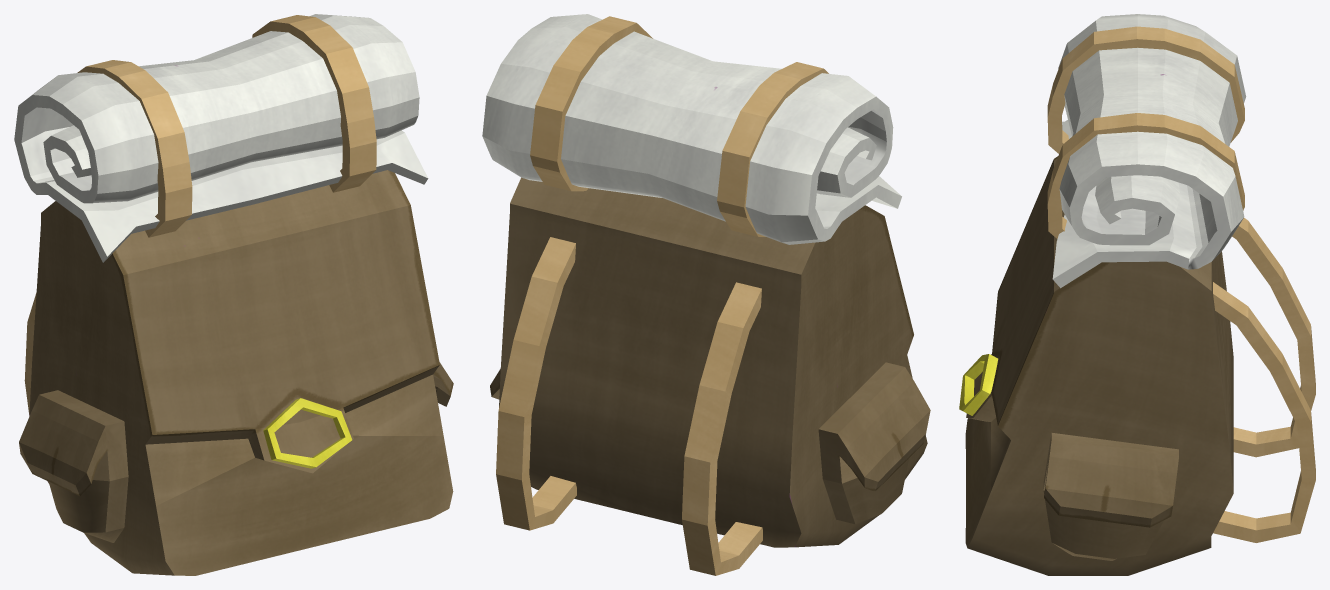
Rendered from backpack_1.fbx.
The picture shows the model from 3 angles, left to right: view 1: azimuth 30°, elevation 25°; view 2: azimuth 150°, elevation 25°; view 3: azimuth 270°, elevation 25°; orthographic projection. The views are drawn at different scales.
Visible parts, largest first — view 1: Plane001, Line001, Line002, Box002, Line005, Line003; view 2: Plane001, Line001, Box002, Line002, Line003, Line004; view 3: Plane001, Line001, Box002, Line002, Line004, Line003, Line005.
Boxes of the visible parts, bbox=[...] form: Plane001: bbox=[29, 170, 453, 575]; Line001: bbox=[14, 14, 428, 262]; Line002: bbox=[77, 15, 376, 237]; Box002: bbox=[19, 362, 453, 542]; Line005: bbox=[263, 398, 352, 468]; Line003: bbox=[24, 292, 36, 416]; Plane001: bbox=[499, 177, 927, 547]; Line001: bbox=[482, 14, 901, 244]; Box002: bbox=[490, 362, 930, 524]; Line002: bbox=[530, 16, 828, 236]; Line003: bbox=[682, 282, 762, 575]; Line004: bbox=[496, 237, 576, 530]; Plane001: bbox=[965, 156, 1233, 575]; Line001: bbox=[1052, 14, 1246, 288]; Box002: bbox=[1043, 433, 1178, 560]; Line002: bbox=[1047, 26, 1244, 238]; Line004: bbox=[1213, 282, 1315, 542]; Line003: bbox=[1232, 218, 1315, 457]; Line005: bbox=[959, 354, 998, 415].
Size of the model in its own units: 44.02 by 37.85 by 51.6.
